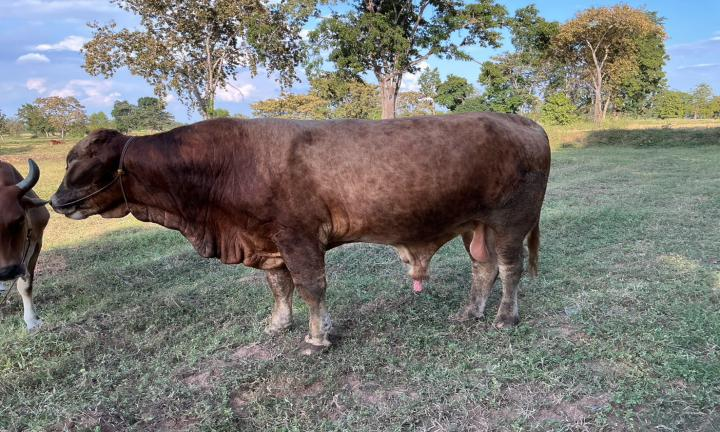Charolais: (51, 112, 550, 353)
